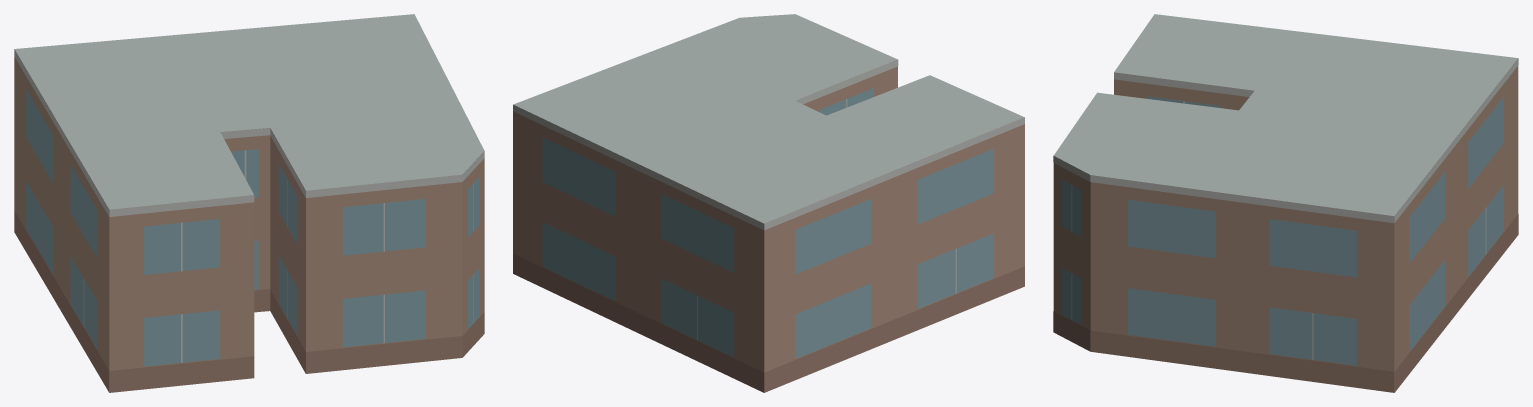
The model's file is survey-upis-32908943.glb.
3 views of the same model, side by side, from view 1: azimuth 30°, elevation 25°; view 2: azimuth 150°, elevation 25°; view 3: azimuth 270°, elevation 25° (orthographic). The views are drawn at different scales.
Visible parts, largest first — view 1: survey-upis-32908943.tmp; view 2: survey-upis-32908943.tmp; view 3: survey-upis-32908943.tmp.
Boxes of the visible parts, x1,y1,x2,y2 form: survey-upis-32908943.tmp: (14, 14, 484, 392); survey-upis-32908943.tmp: (513, 14, 1024, 392); survey-upis-32908943.tmp: (1053, 14, 1518, 392).
Size of the model in its own units: 14.98 by 6.1 by 14.56.
